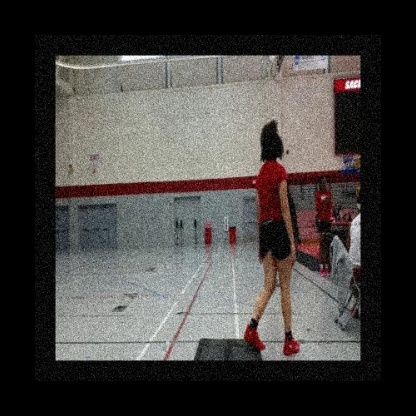lateral_flexion_right: (241, 113, 300, 361)
stance_width_broad: (241, 154, 300, 360)
